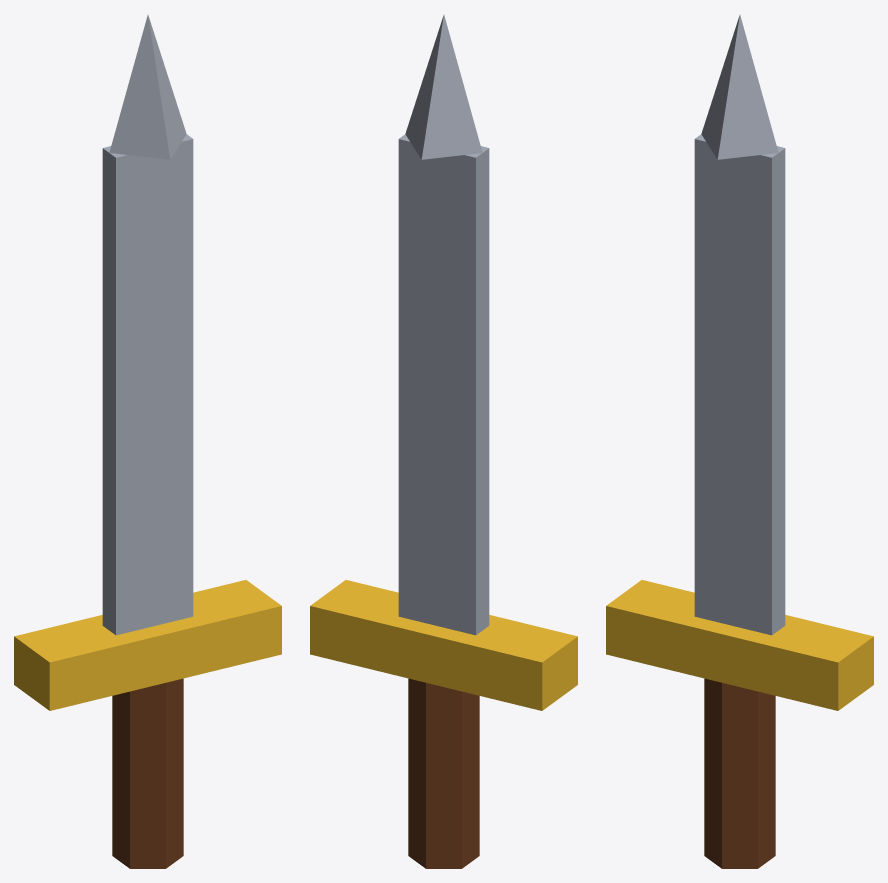
File: dagger.glb
The picture shows the model from 3 angles, left to right: view 1: azimuth 30°, elevation 25°; view 2: azimuth 150°, elevation 25°; view 3: azimuth 330°, elevation 25°; orthographic projection.
Parts seen in each view (by area): view 1: dagger; view 2: dagger; view 3: dagger.
Boxes of the visible parts, x1,y1,x2,y2 form: dagger: (14, 15, 281, 868); dagger: (310, 15, 577, 868); dagger: (606, 15, 873, 868).
Size of the model in its own units: 0.15 by 0.52 by 0.05.
